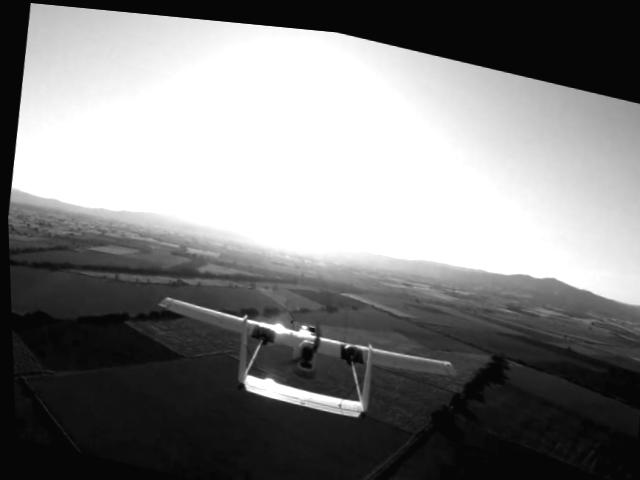hedef: (136, 270, 471, 446)
